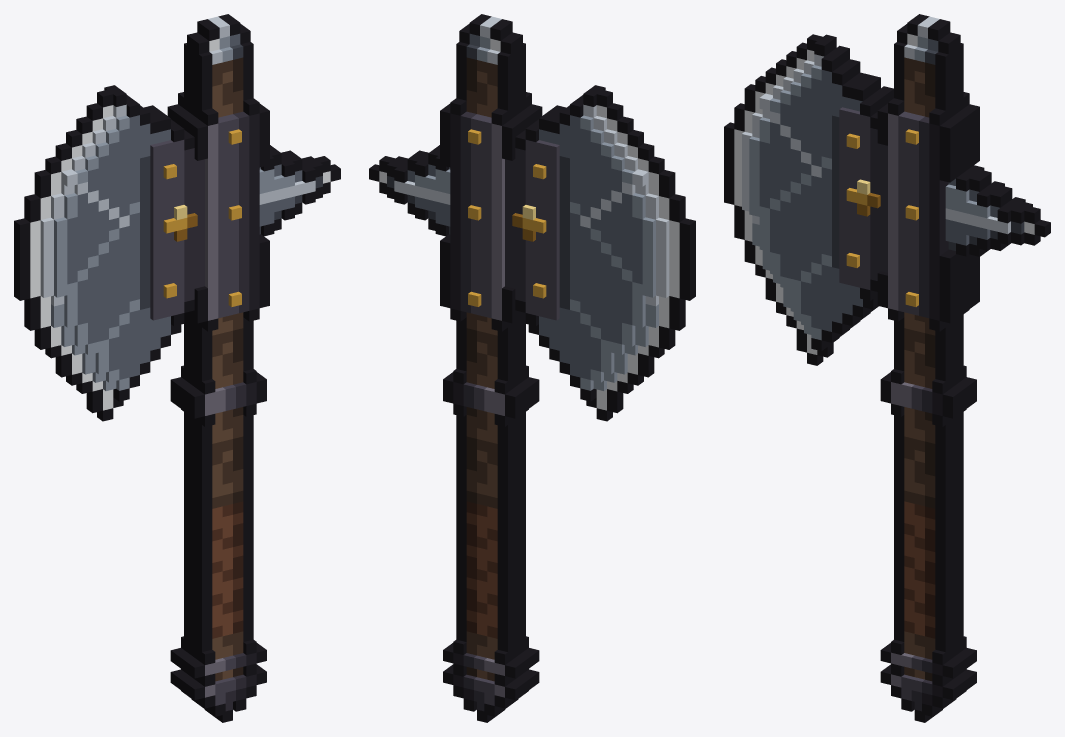
Rendered from doomcleaver.glb.
The picture shows the model from 3 angles, left to right: view 1: azimuth 30°, elevation 25°; view 2: azimuth 150°, elevation 25°; view 3: azimuth 330°, elevation 25°; orthographic projection.
Parts seen in each view (by area): view 1: doomcleaver; view 2: doomcleaver; view 3: doomcleaver.
Part boxes in pixels (x1,y1,x2,y2): doomcleaver: (14, 14, 340, 722); doomcleaver: (369, 14, 695, 722); doomcleaver: (724, 14, 1050, 722).
Size of the model in its own units: 1.94 by 4 by 0.375.
1 material, 1 textured.
